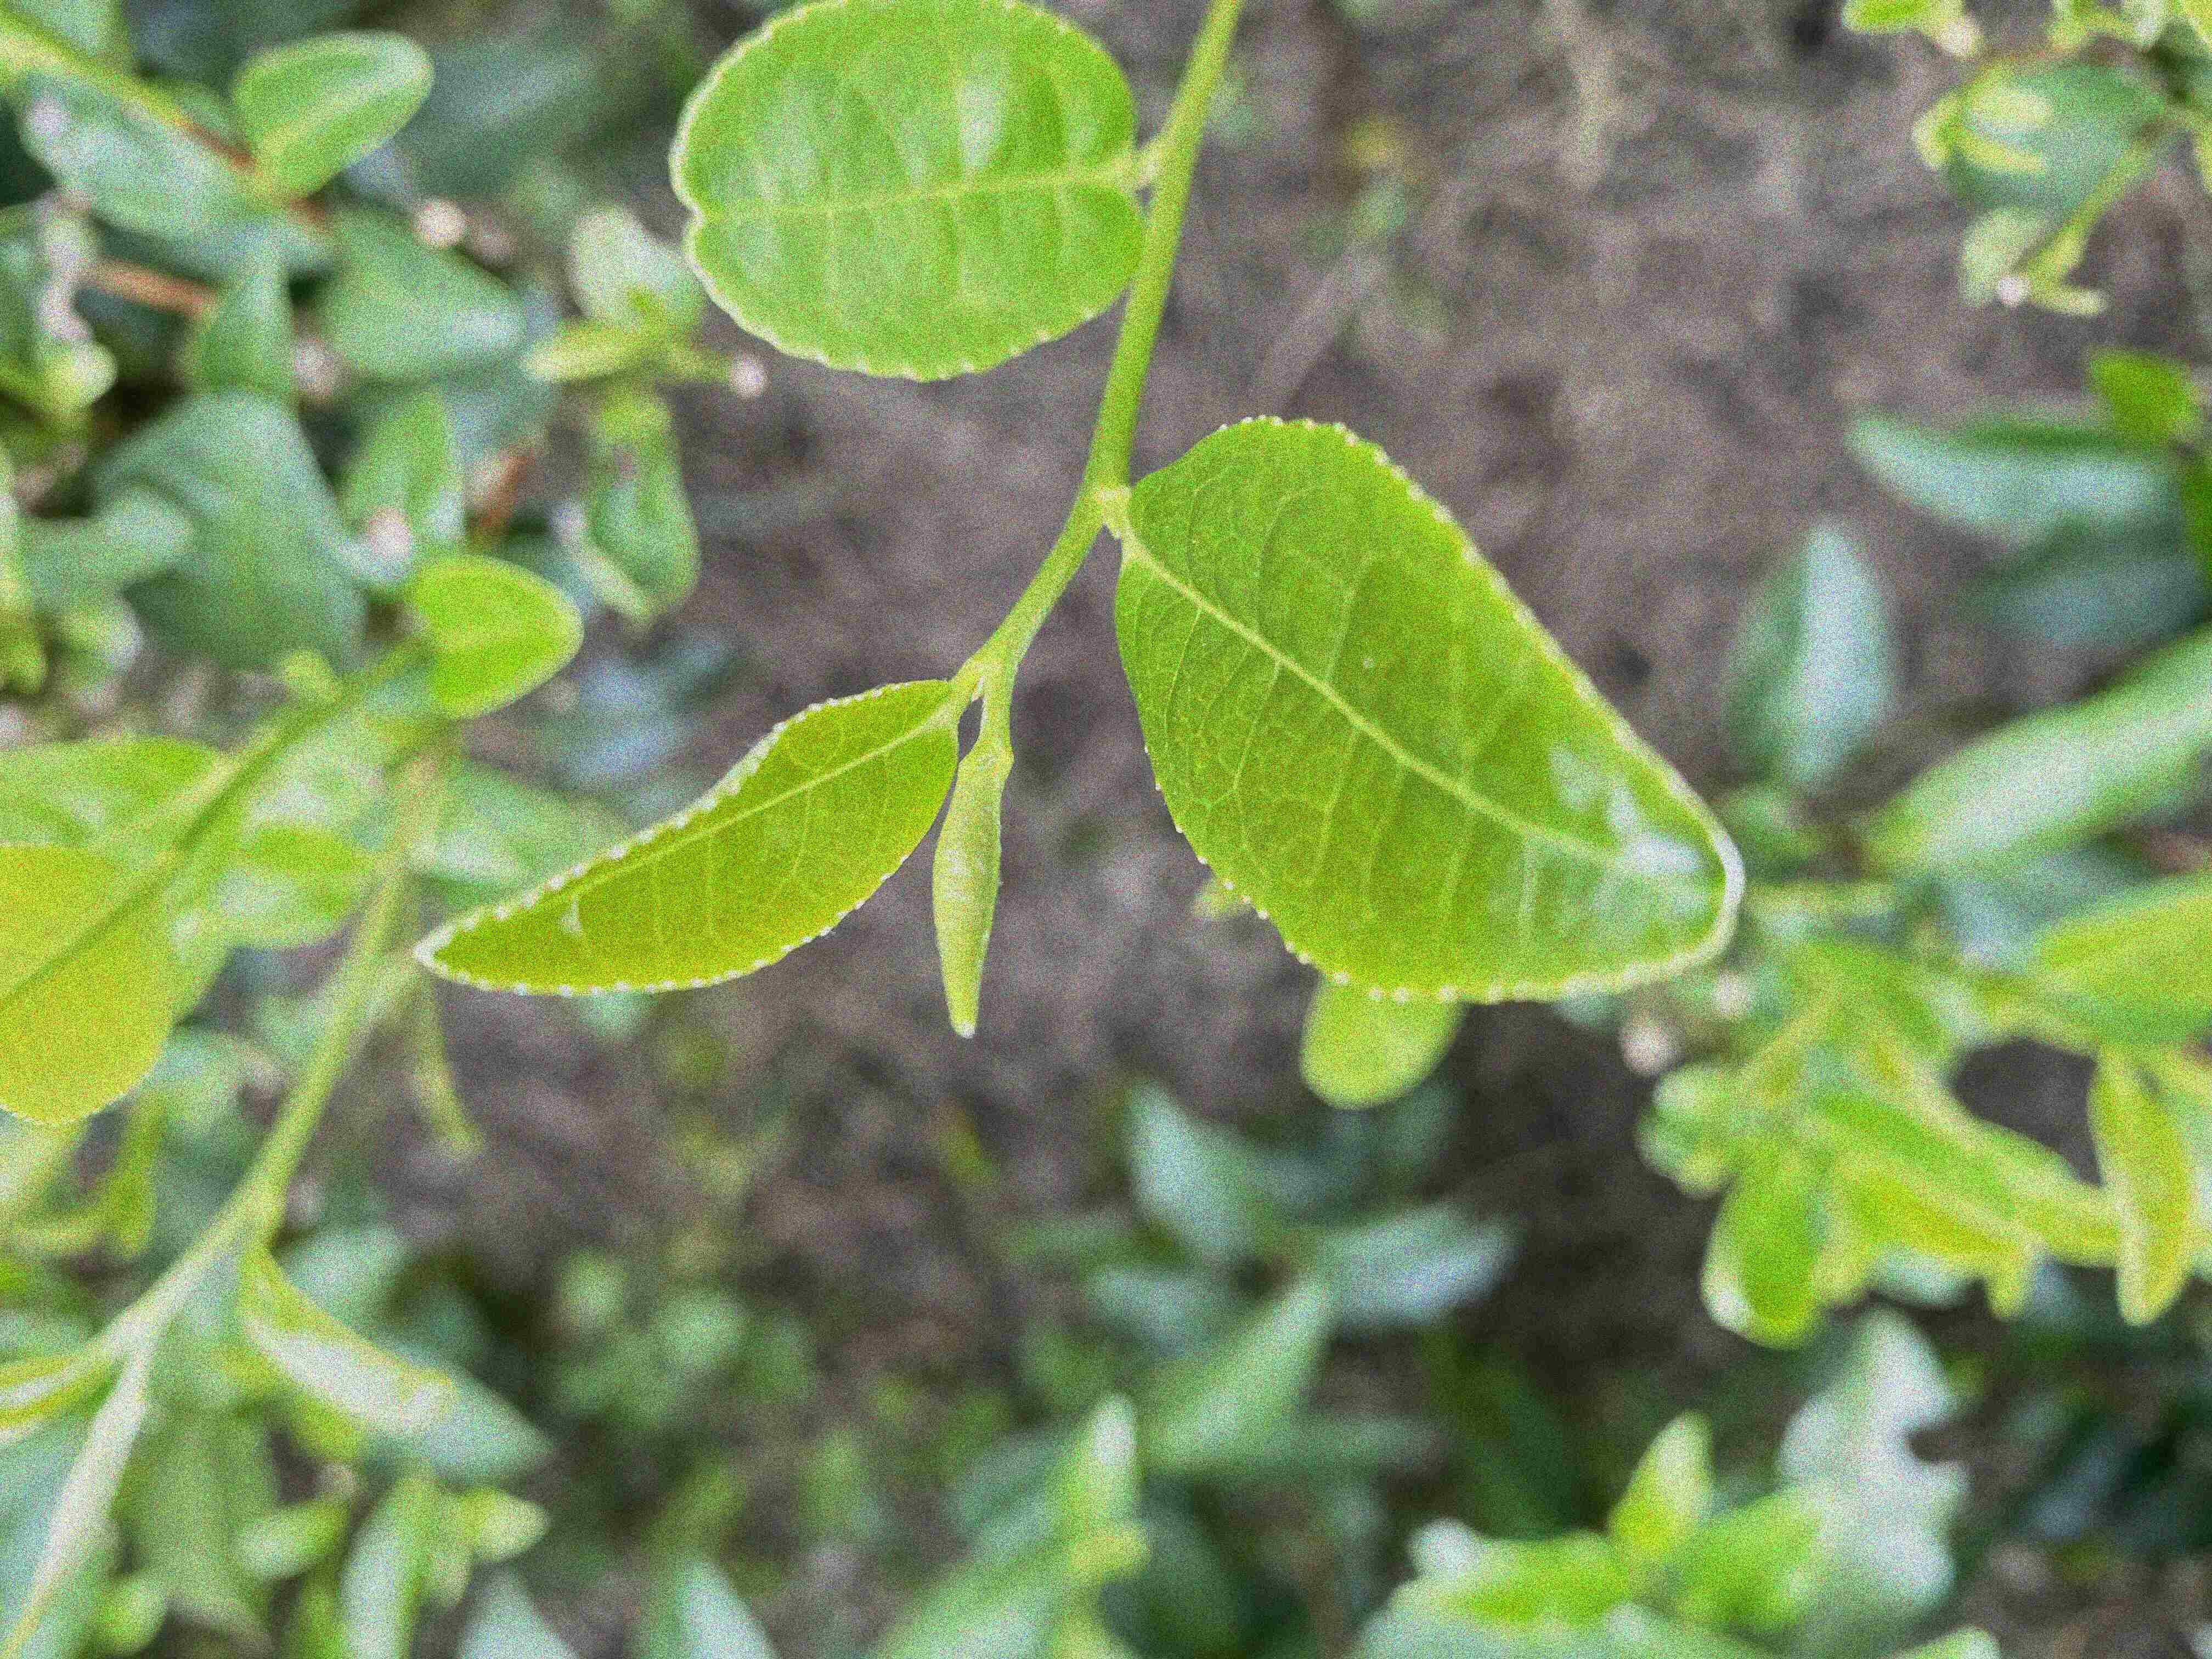healthy: (1104, 410, 1743, 1004), (658, 0, 1144, 382), (413, 680, 963, 1000)
